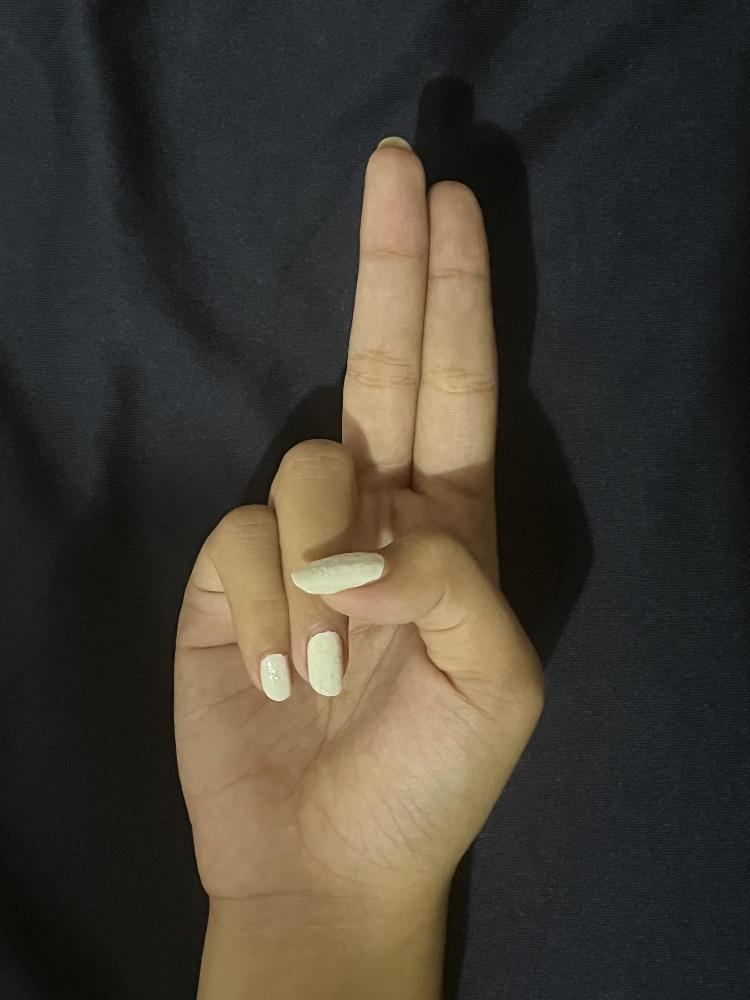u: (166, 135, 549, 901)
